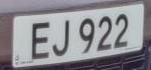2: (96, 11, 114, 56), (112, 10, 131, 52)
9: (77, 14, 97, 57)
E: (29, 19, 51, 62)
J: (51, 17, 73, 61)
